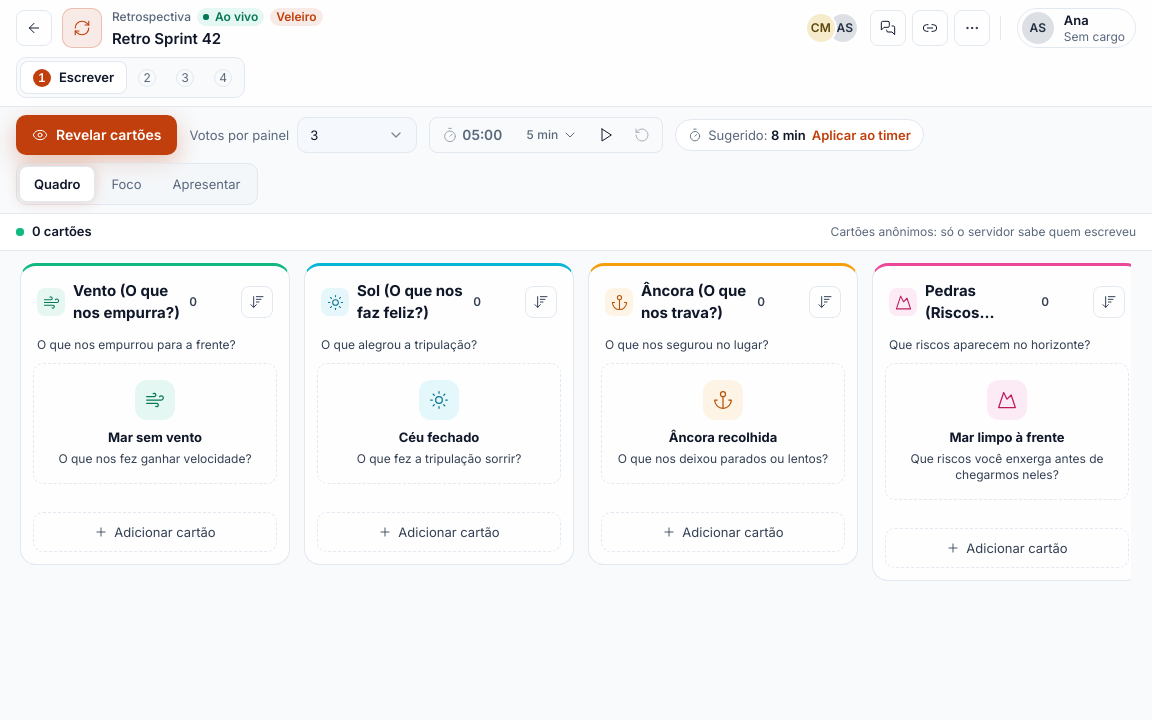
Test: sala da Retro com cenário › estado vazio e placeholder na voz do formato; coluna de ação com o texto do formato
Expected: the text "Mar sem vento" is shown, top-left (108, 428), bottom-right (202, 447)
Expected: the text "O que nos fez ganhar velocidade?" is shown, top-left (58, 451), bottom-right (252, 467)
Click the button "Adicionar cartão" below "O que nos fez ganhar velocidade?" at (155, 532), box top-left (33, 512), bottom-right (277, 552)
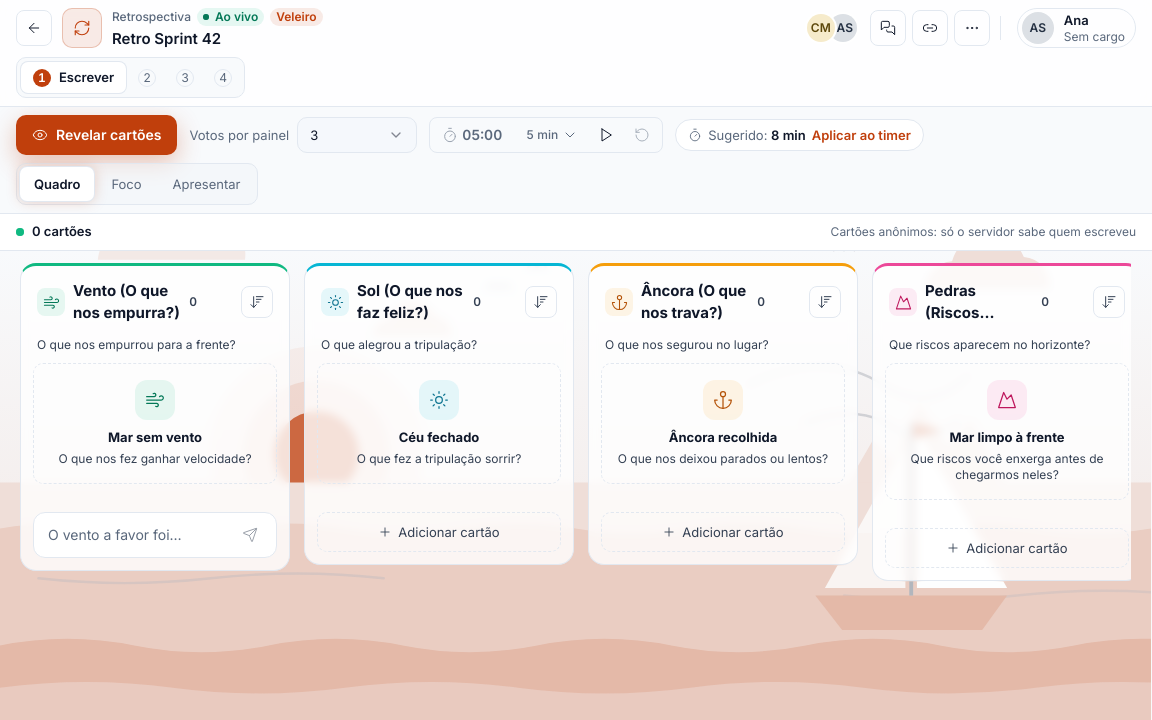
Result: the text box with placeholder "O vento a favor foi…" is shown at top-left (34, 513), bottom-right (276, 557)
